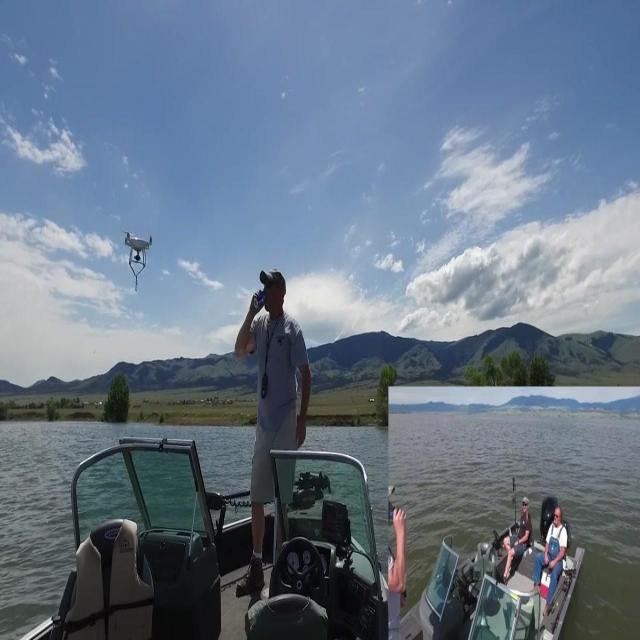UAV: (124, 230, 152, 292)
